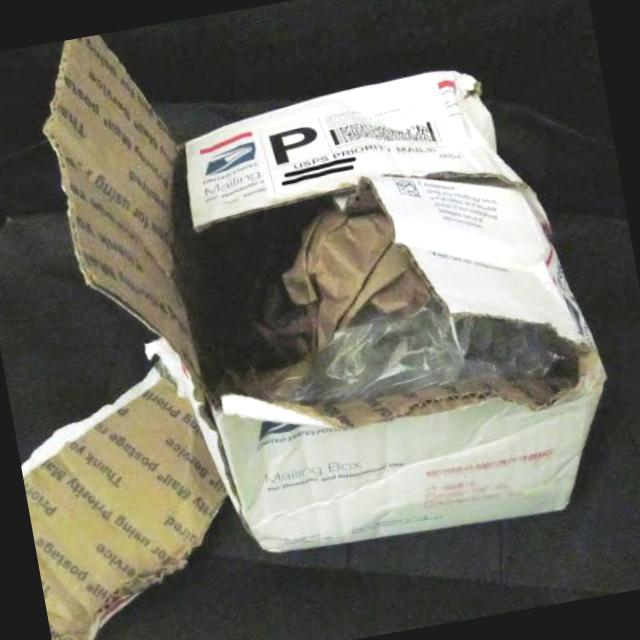package_damage: (35, 0, 622, 507)
